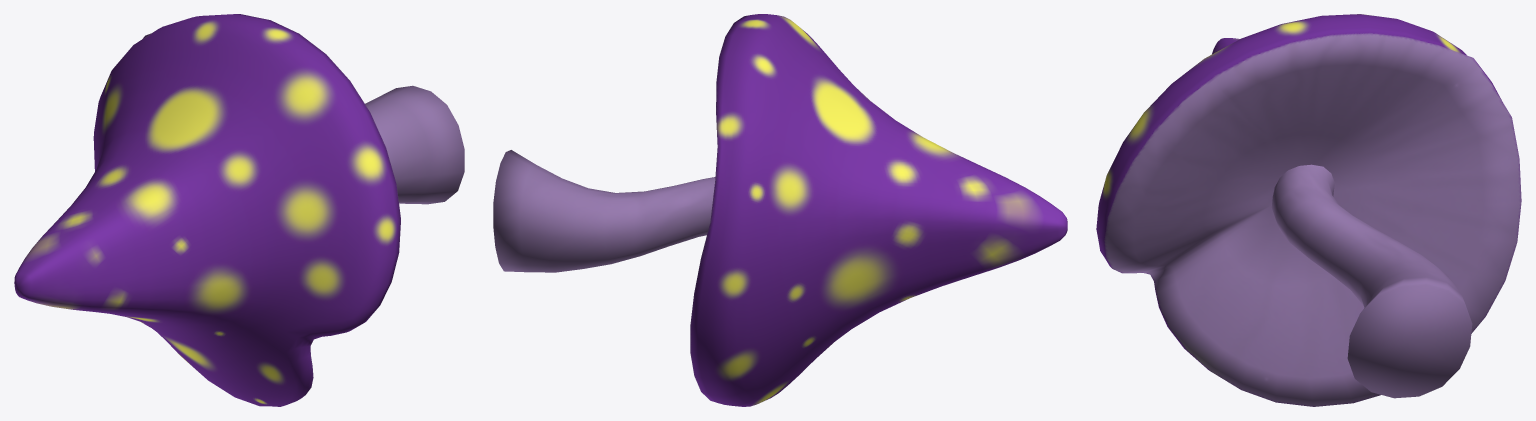
File: ChapeuDeBruxa.fbx
The picture shows the model from 3 angles, left to right: view 1: azimuth 30°, elevation 25°; view 2: azimuth 150°, elevation 25°; view 3: azimuth 270°, elevation 25°; orthographic projection. The views are drawn at different scales.
Parts seen in each view (by area): view 1: CogumeloChapeu; view 2: CogumeloChapeu; view 3: CogumeloChapeu.
Boxes of the visible parts, x1,y1,x2,y2 form: CogumeloChapeu: (14, 14, 464, 406); CogumeloChapeu: (493, 14, 1067, 406); CogumeloChapeu: (1096, 14, 1521, 406).
Size of the model in its own units: 209 by 145 by 144.
